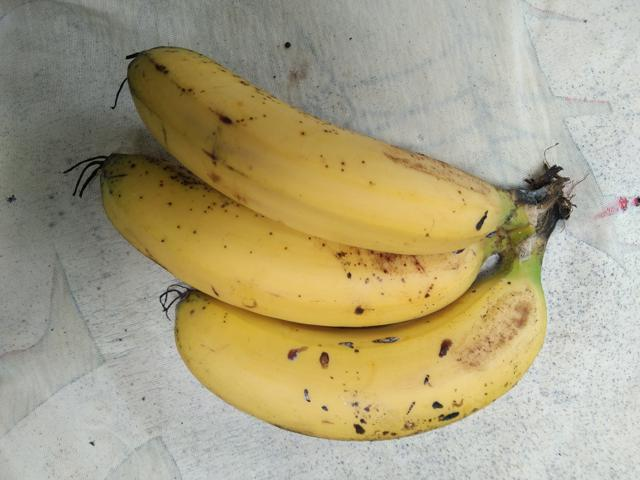ripe: (105, 24, 515, 247), (156, 254, 575, 447), (84, 137, 489, 333)
